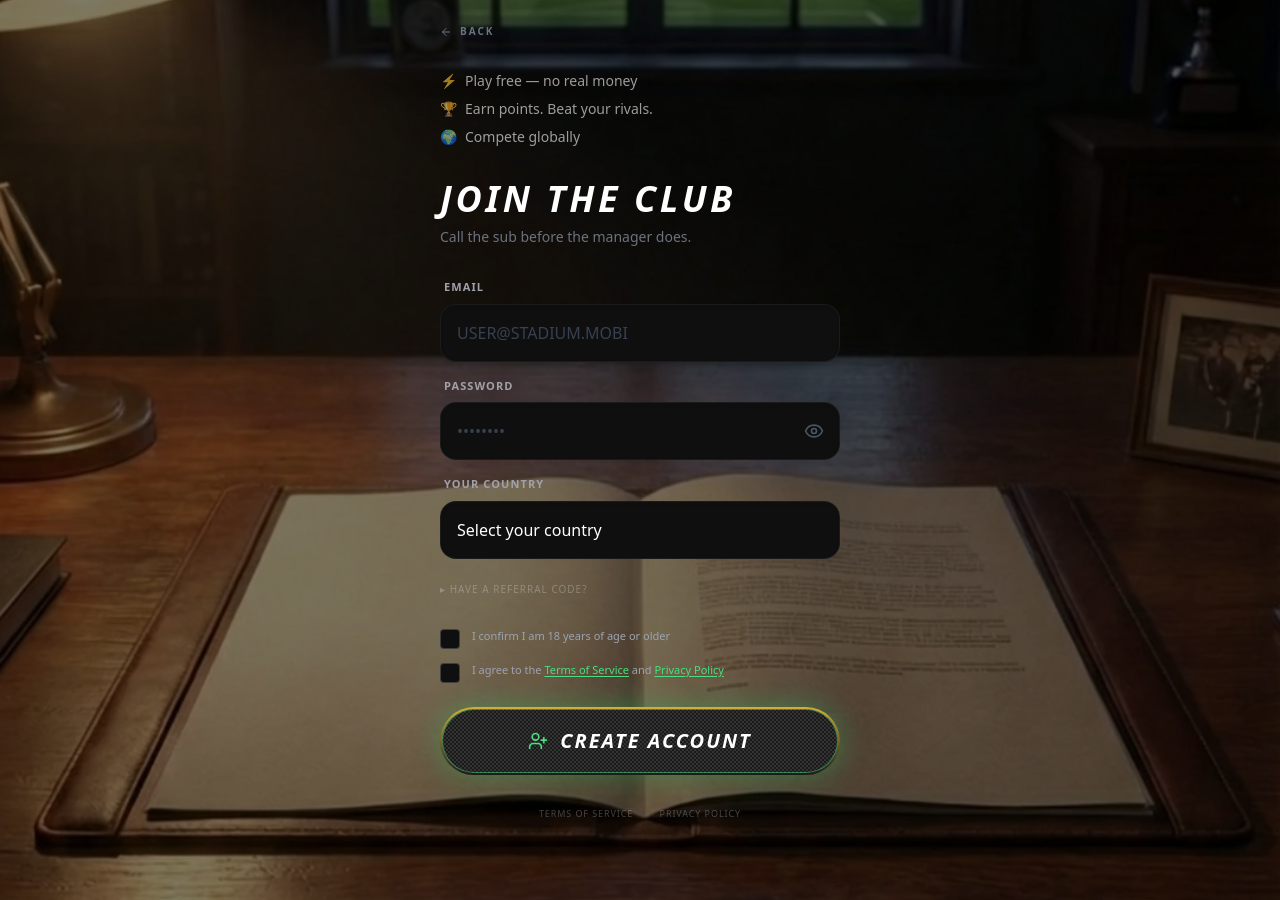
Test case: Signup Page › Compliance checkboxes › blocks submission when only the terms box is checked
The width and height of the screenshot is (1280, 900).
Type "test@example.com" into the field with placeholder "USER@STADIUM.MOBI" at (640, 332), box [440, 304, 840, 362]
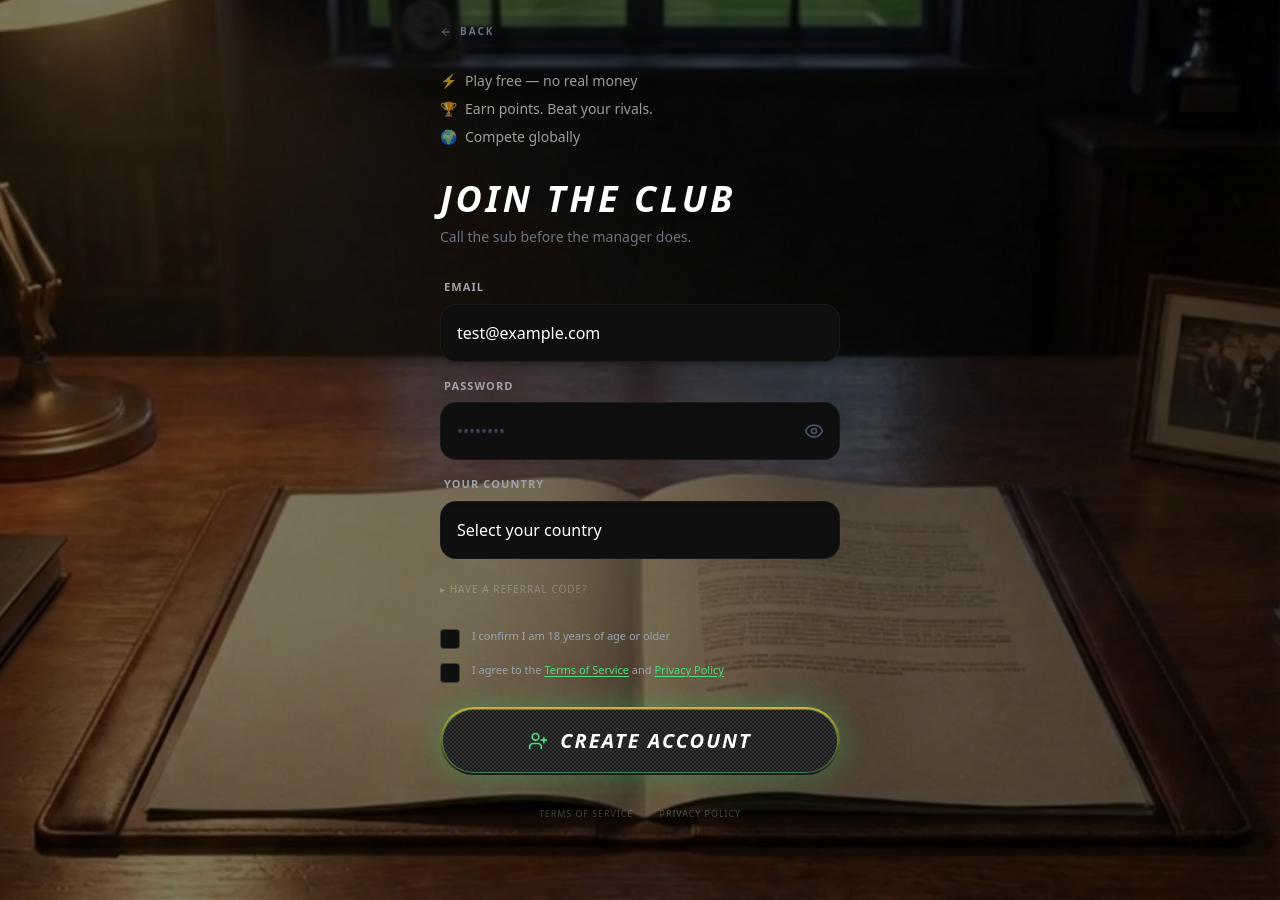
Type "password123" into the password field with placeholder "••••••••" at (640, 431), box [440, 402, 840, 460]
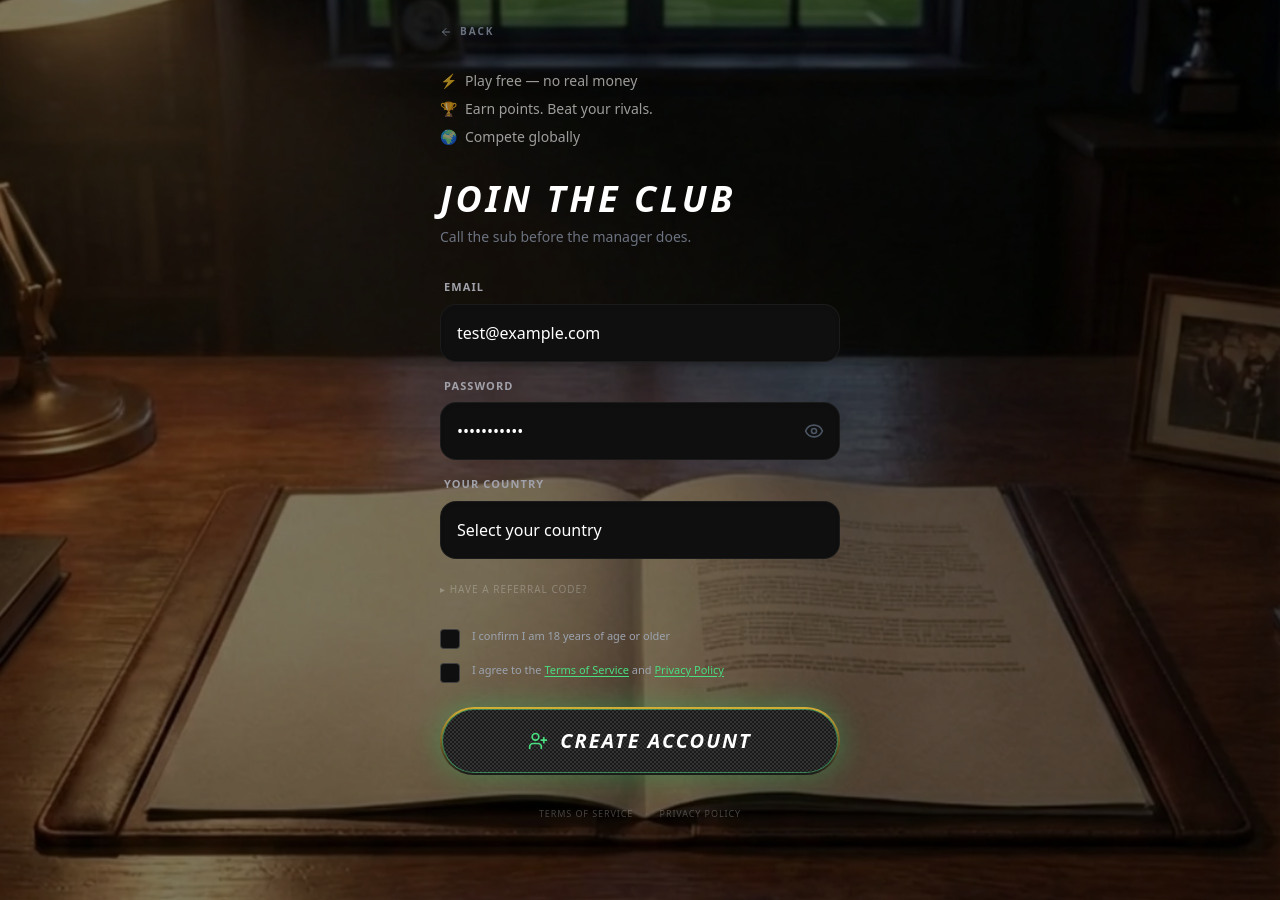
Click the checkbox labelled "I agree to the Terms of Service and Privacy Policy" at (582, 672), box [440, 662, 724, 682]
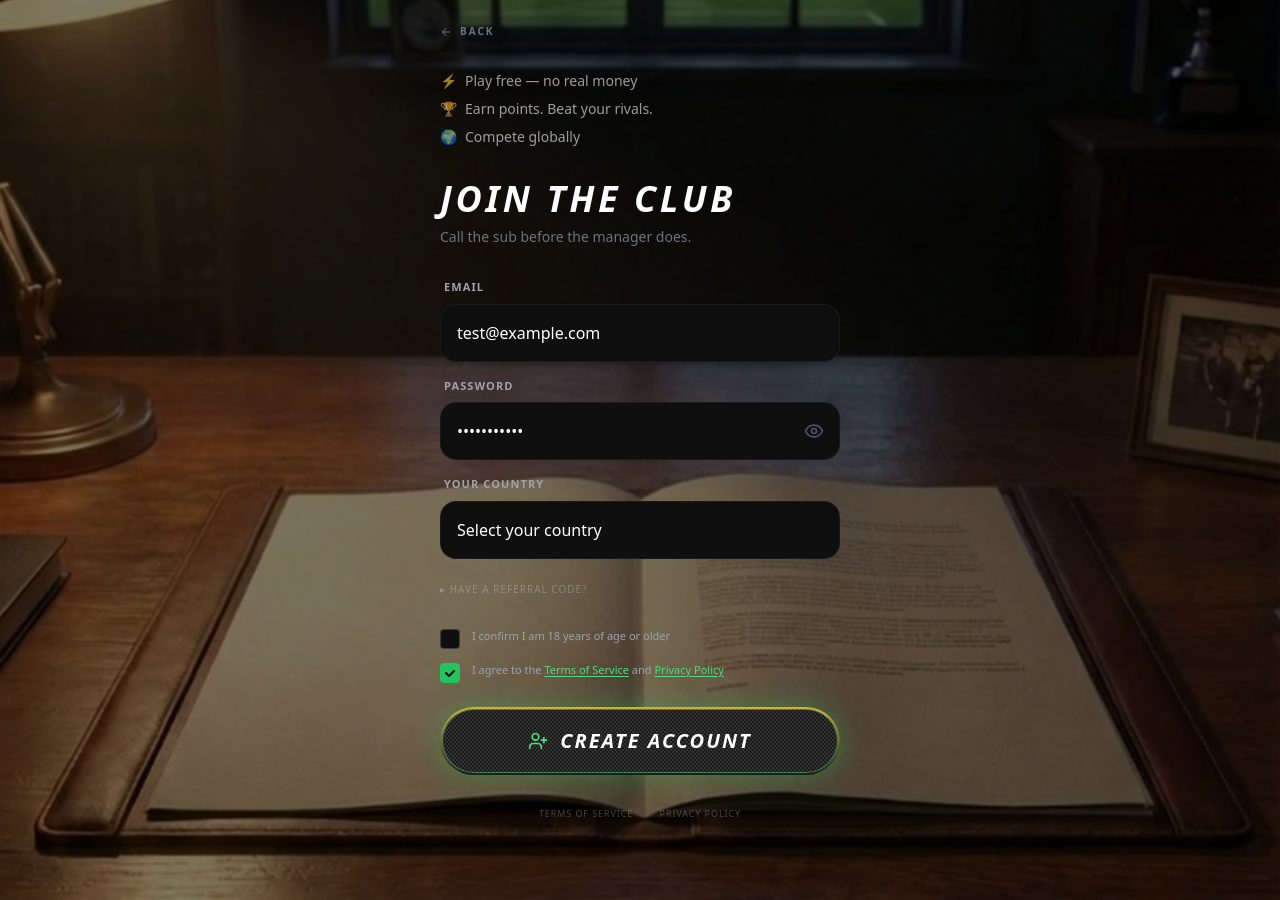
Submit the text "CREATE ACCOUNT", box [440, 279, 840, 820]
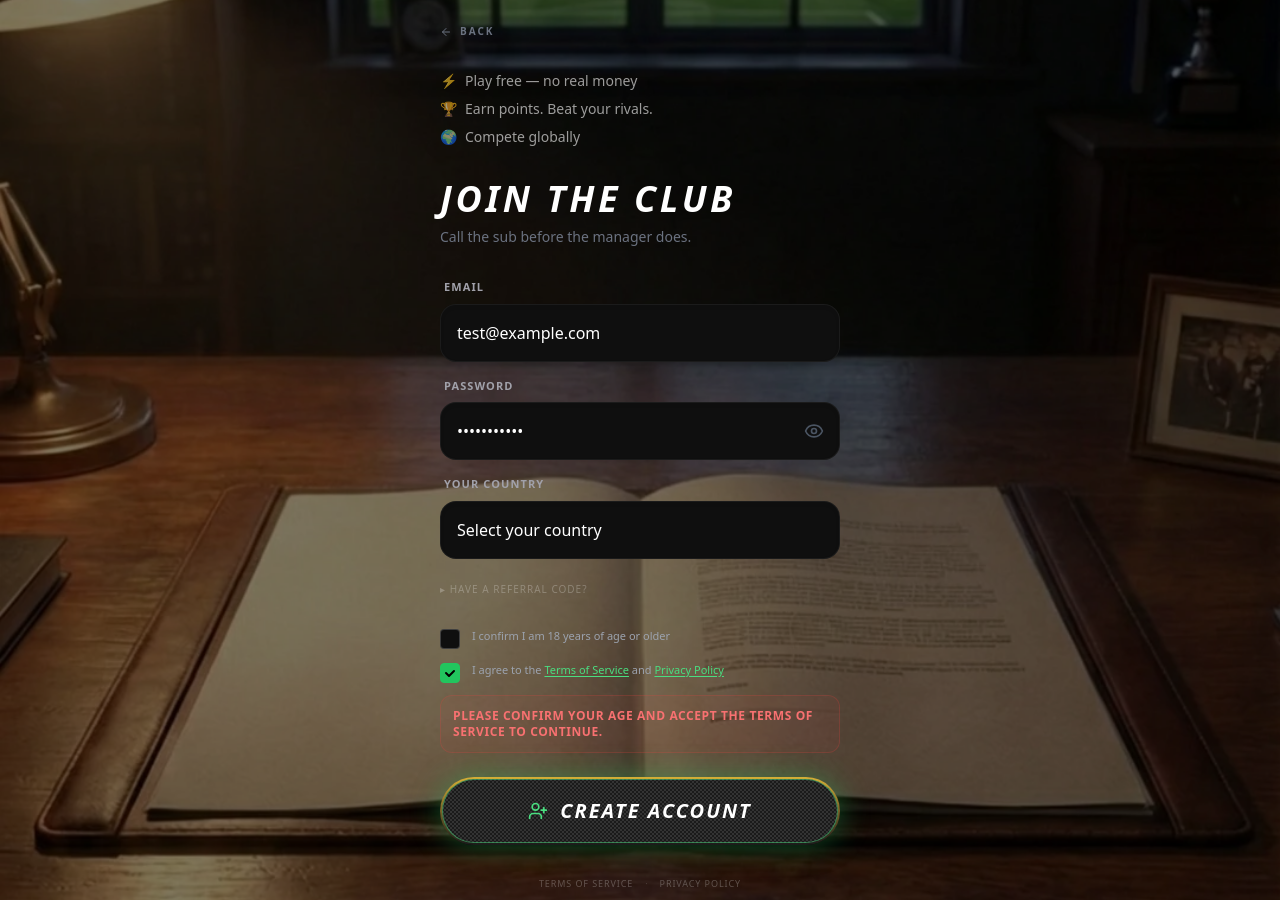
Expected: the text "Please confirm your age" is shown, [453, 706, 813, 740]
